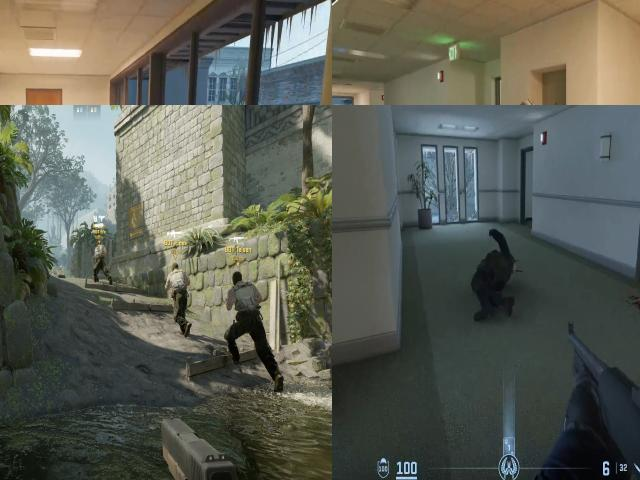Dead: (469, 230, 521, 328)
T: (226, 257, 262, 381), (165, 260, 190, 328), (94, 241, 106, 280)
T-Head: (229, 264, 244, 288), (171, 262, 180, 272), (96, 240, 102, 246)
